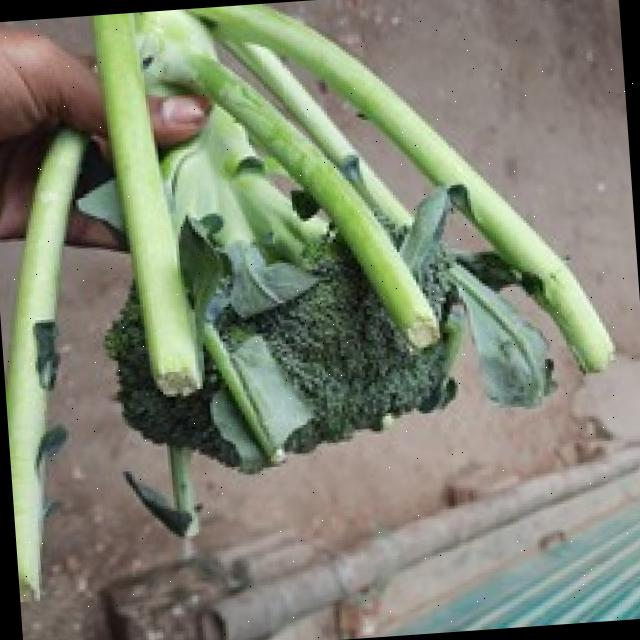Broccoli: (216, 235, 454, 453), (234, 229, 454, 453), (109, 297, 266, 469), (108, 303, 267, 470), (398, 186, 462, 321), (420, 255, 456, 318)
